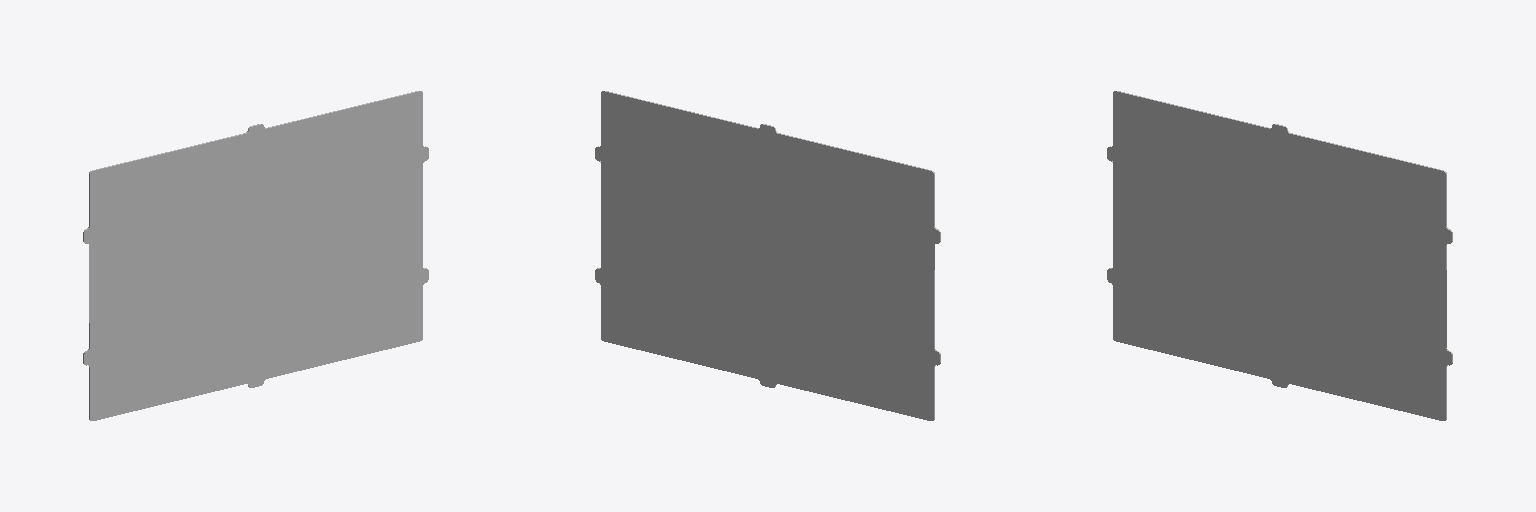
Rendered from pei.obj.
The picture shows the model from 3 angles: view 1: azimuth 30°, elevation 25°; view 2: azimuth 150°, elevation 25°; view 3: azimuth 330°, elevation 25°; orthographic projection.
Visible parts, largest first — view 1: PEI_Cube.001; view 2: PEI_Cube.001; view 3: PEI_Cube.001.
Part boxes in pixels (left/top/right/bottom): PEI_Cube.001: left=83, top=91, right=428, bottom=420; PEI_Cube.001: left=595, top=91, right=940, bottom=420; PEI_Cube.001: left=1107, top=91, right=1452, bottom=420.
Bounding box in the file's own units: 218 × 158 × 1.